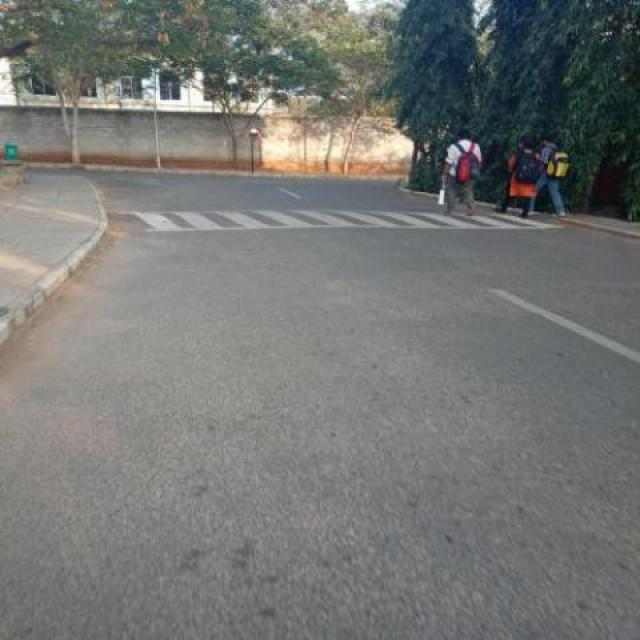Speed Bump: (103, 207, 566, 234)
